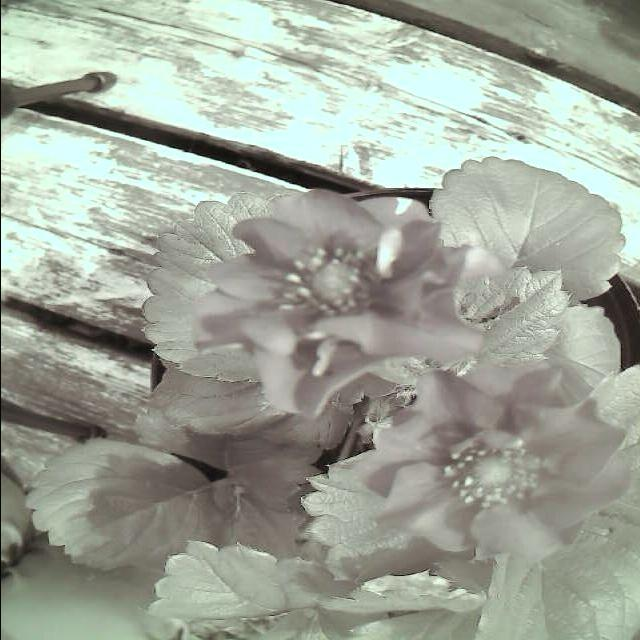flower: (182, 174, 485, 418), (350, 359, 625, 565)
